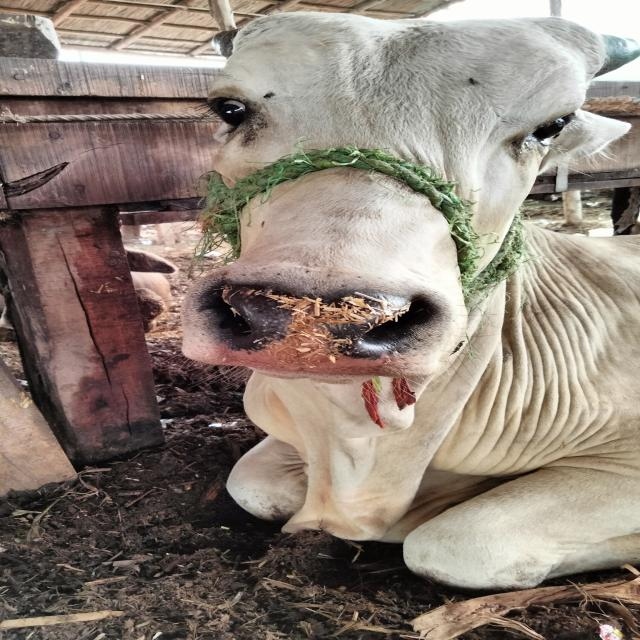muzzles: (186, 267, 436, 379)
